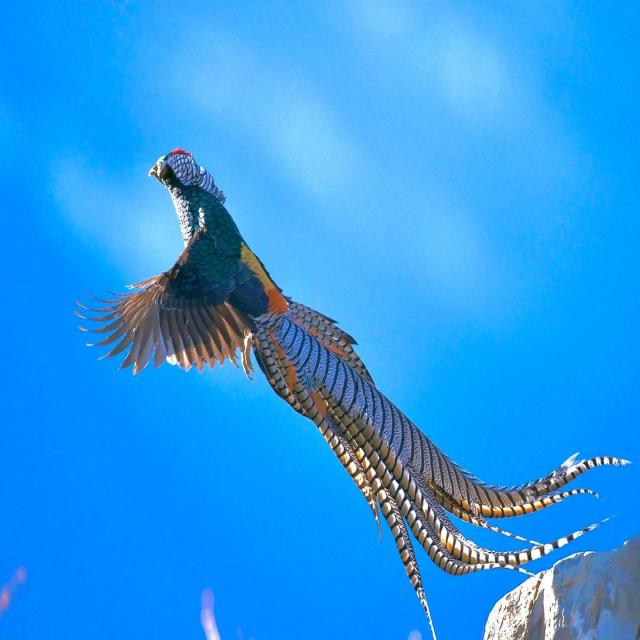Chrysolophus amherstiae: (255, 300, 618, 599)
